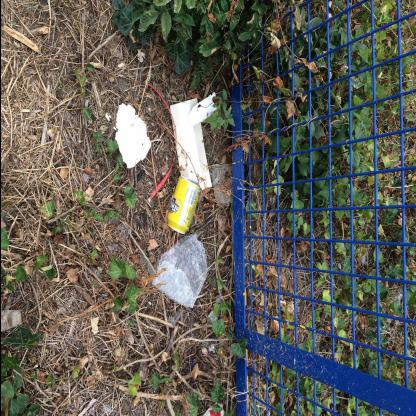diger: (187, 94, 217, 127)
kagit: (212, 166, 232, 208)
karton: (170, 100, 212, 192)
metal: (168, 175, 201, 237)
plastik: (153, 236, 208, 310)
